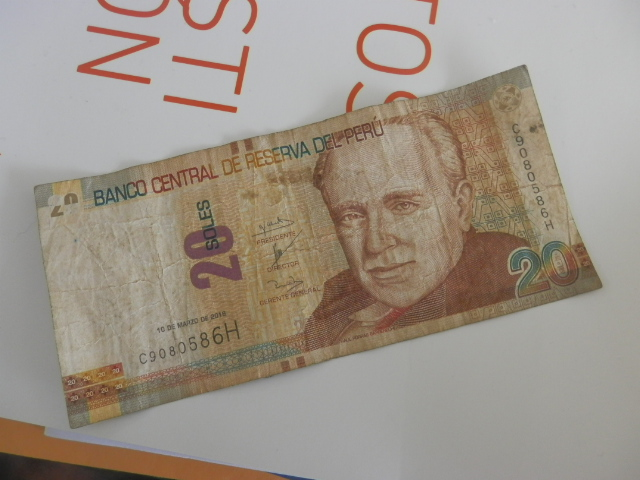B20: (42, 79, 603, 445)
